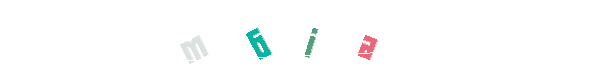6: (254, 0, 334, 80)
A: (327, 0, 407, 80)
I: (271, 0, 351, 80)
M: (233, 0, 313, 80)
